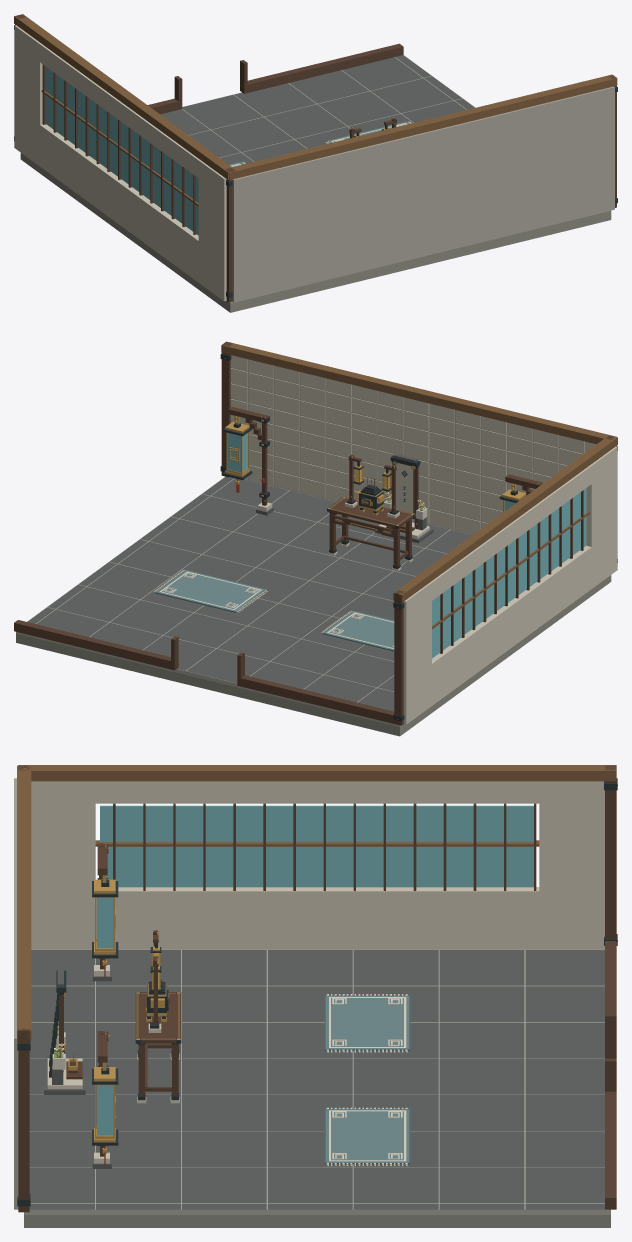
The picture shows the model from 3 angles, top to bottom: view 1: azimuth 30°, elevation 25°; view 2: azimuth 150°, elevation 25°; view 3: azimuth 270°, elevation 25°; orthographic projection. The views are drawn at different scales.
Parts seen in each view (by area): view 1: 真实窗洞、木梁与切角房间墙, 分层实心台基与独立石铺面; view 2: 真实窗洞、木梁与切角房间墙, 分层实心台基与独立石铺面, 起居地毯 (×2), 节庆花灯外壳 (×2), 信仰礼仪供台, 纪念牌位, 香炉及烛灯; view 3: 分层实心台基与独立石铺面, 真实窗洞、木梁与切角房间墙, 起居地毯 (×2), 节庆花灯外壳 (×2), 信仰礼仪供台, 纪念牌位, 香炉及烛灯.
Boxes of the visible parts, x1,y1,x2,y2 form: 真实窗洞、木梁与切角房间墙: [14, 14, 617, 302]; 分层实心台基与独立石铺面: [20, 55, 611, 312]; 真实窗洞、木梁与切角房间墙: [14, 341, 617, 725]; 分层实心台基与独立石铺面: [16, 476, 611, 736]; 起居地毯 (×2): [153, 569, 394, 651]; 节庆花灯外壳 (×2): [223, 407, 543, 515]; 信仰礼仪供台: [327, 497, 414, 571]; 纪念牌位: [375, 453, 433, 543]; 香炉及烛灯: [345, 454, 399, 518]; 分层实心台基与独立石铺面: [24, 949, 610, 1227]; 真实窗洞、木梁与切角房间墙: [14, 765, 617, 1212]; 起居地毯 (×2): [324, 994, 410, 1166]; 节庆花灯外壳 (×2): [92, 843, 118, 1168]; 信仰礼仪供台: [135, 992, 181, 1103]; 纪念牌位: [44, 969, 85, 1094]; 香炉及烛灯: [146, 930, 169, 1032].
Size of the model in its own units: 8.83 by 3.08 by 8.44.
25 materials, 25 textured.
